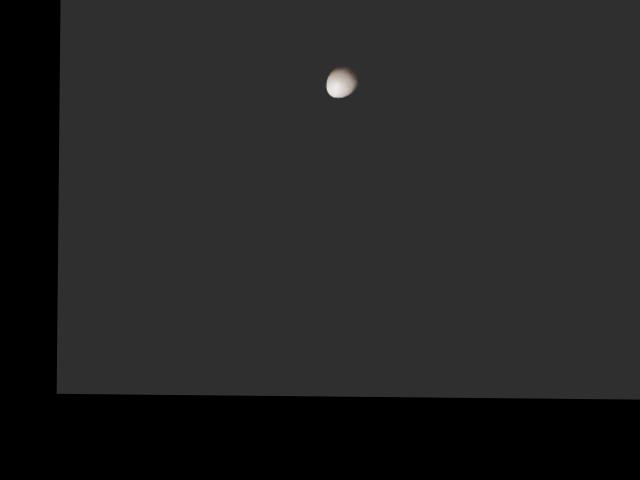egg: (326, 65, 359, 97)
